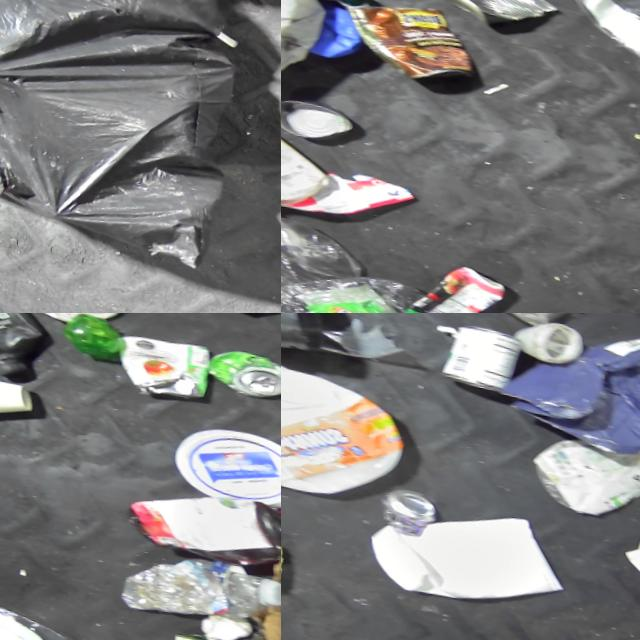can: (335, 0, 481, 88), (113, 325, 213, 401), (438, 313, 520, 388), (206, 339, 281, 397), (281, 90, 356, 146), (436, 0, 560, 33), (379, 479, 438, 531)
milk_jug: (362, 480, 571, 613), (281, 337, 413, 506), (281, 99, 336, 210), (281, 0, 331, 102)
non_white_jug: (498, 313, 640, 457), (123, 470, 281, 569), (0, 313, 54, 383)
plastic_bottle: (118, 537, 281, 633), (281, 202, 369, 313), (281, 247, 428, 313), (546, 0, 640, 70), (0, 587, 115, 640)
